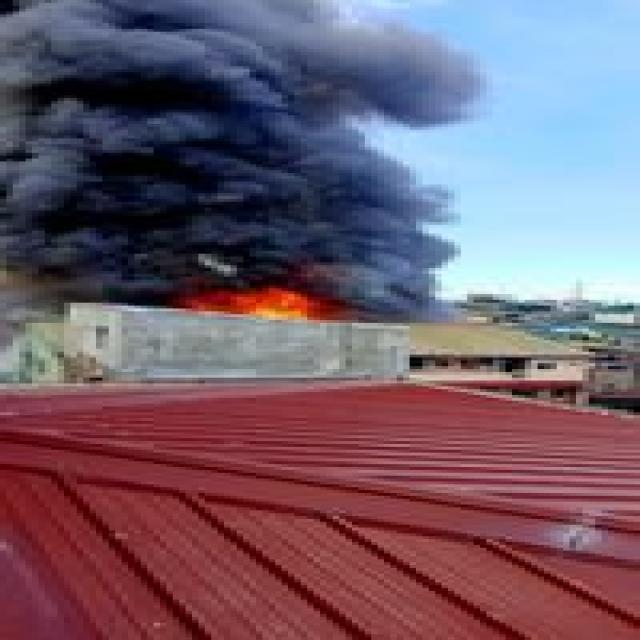Fire: (172, 282, 342, 322)
Smoke: (0, 0, 484, 322)
